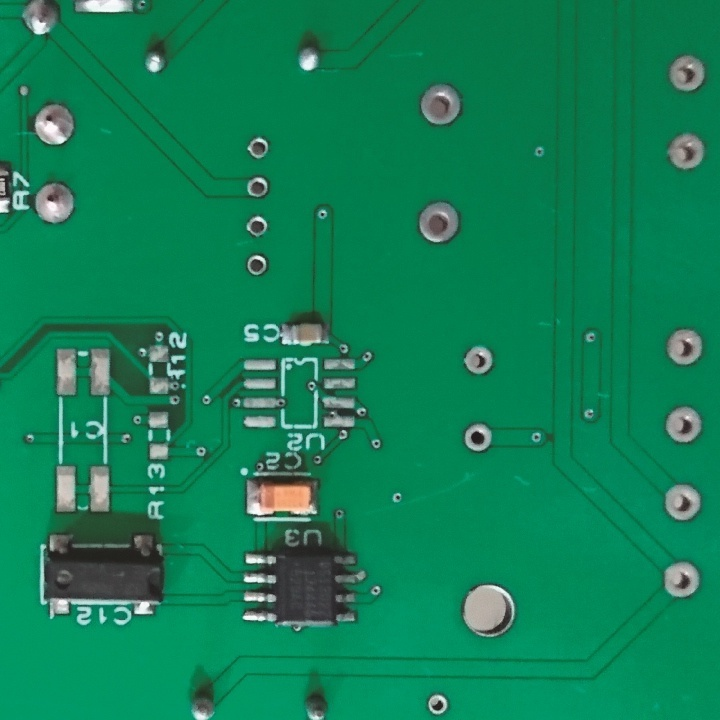F: (30, 100, 80, 149), (417, 80, 465, 131), (415, 198, 462, 248), (33, 182, 79, 224), (666, 51, 709, 95), (661, 558, 704, 600), (667, 129, 707, 173), (664, 403, 704, 446), (664, 325, 705, 366), (663, 480, 700, 523), (464, 342, 496, 378), (463, 422, 493, 453), (424, 689, 453, 717), (245, 135, 273, 162), (244, 213, 270, 239), (245, 175, 273, 199), (246, 251, 267, 277)
